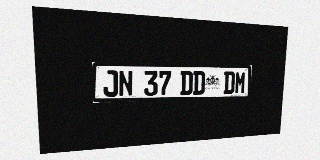3: (144, 70, 158, 96)
7: (158, 71, 171, 96)
D: (180, 71, 193, 95), (193, 71, 205, 95), (223, 71, 235, 94)
J: (103, 70, 118, 97)
M: (234, 71, 246, 94)
N: (118, 70, 133, 97)
